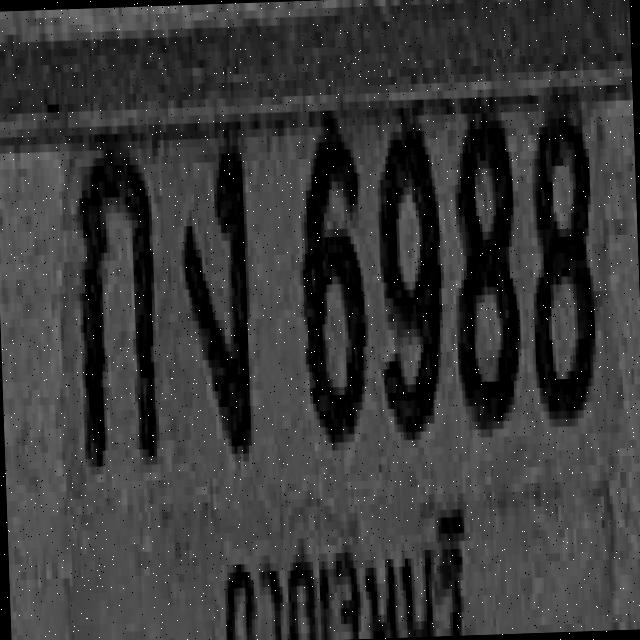10GorGai: (74, 132, 160, 466)
16NgorNgu: (177, 125, 254, 451)
6: (297, 105, 369, 439)
8: (525, 89, 599, 415), (448, 92, 520, 426)
9: (374, 106, 446, 432)
Kanchanaburi: (206, 492, 480, 640)
